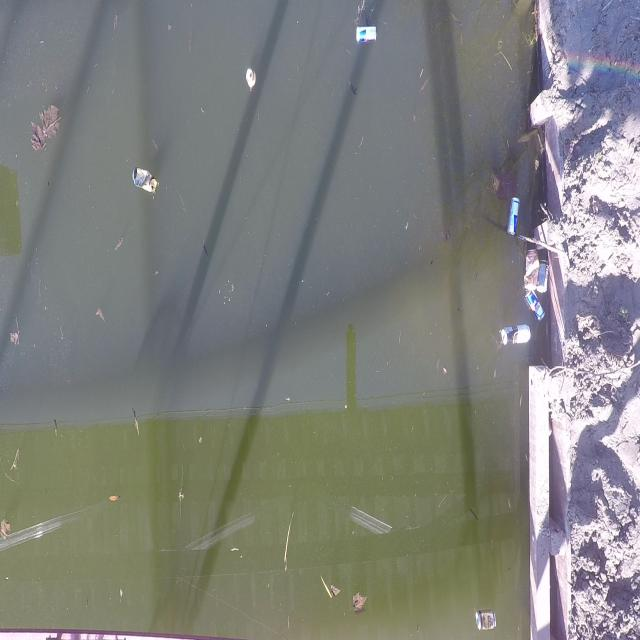Non plastique: (130, 161, 162, 202), (497, 320, 533, 350), (470, 603, 498, 637), (522, 291, 546, 323), (522, 245, 537, 294), (352, 22, 380, 48), (504, 193, 520, 238), (243, 65, 259, 96), (535, 259, 548, 295)
